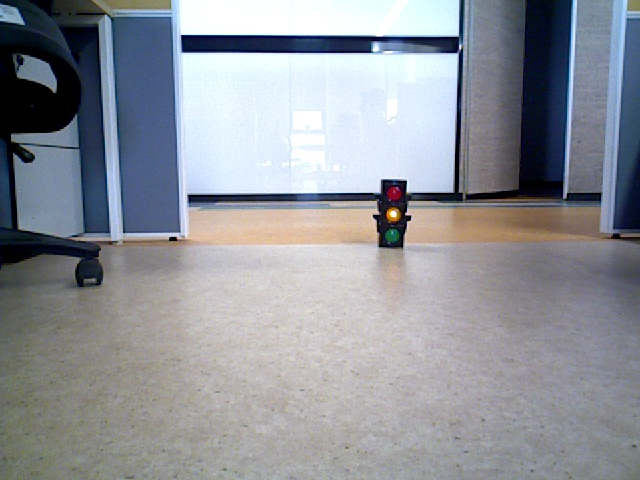yellow: (378, 180, 404, 246)
